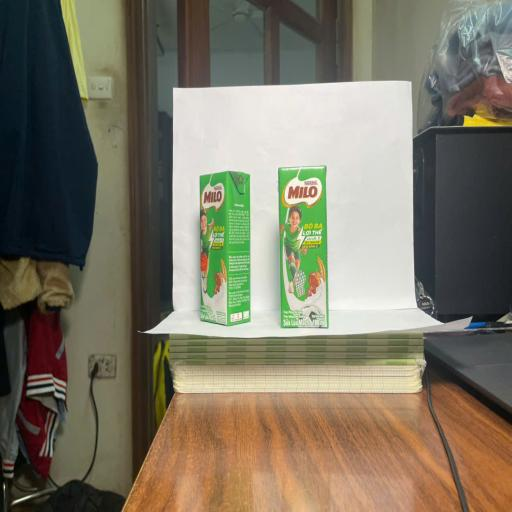milo: (278, 165, 329, 329), (200, 171, 250, 326)
